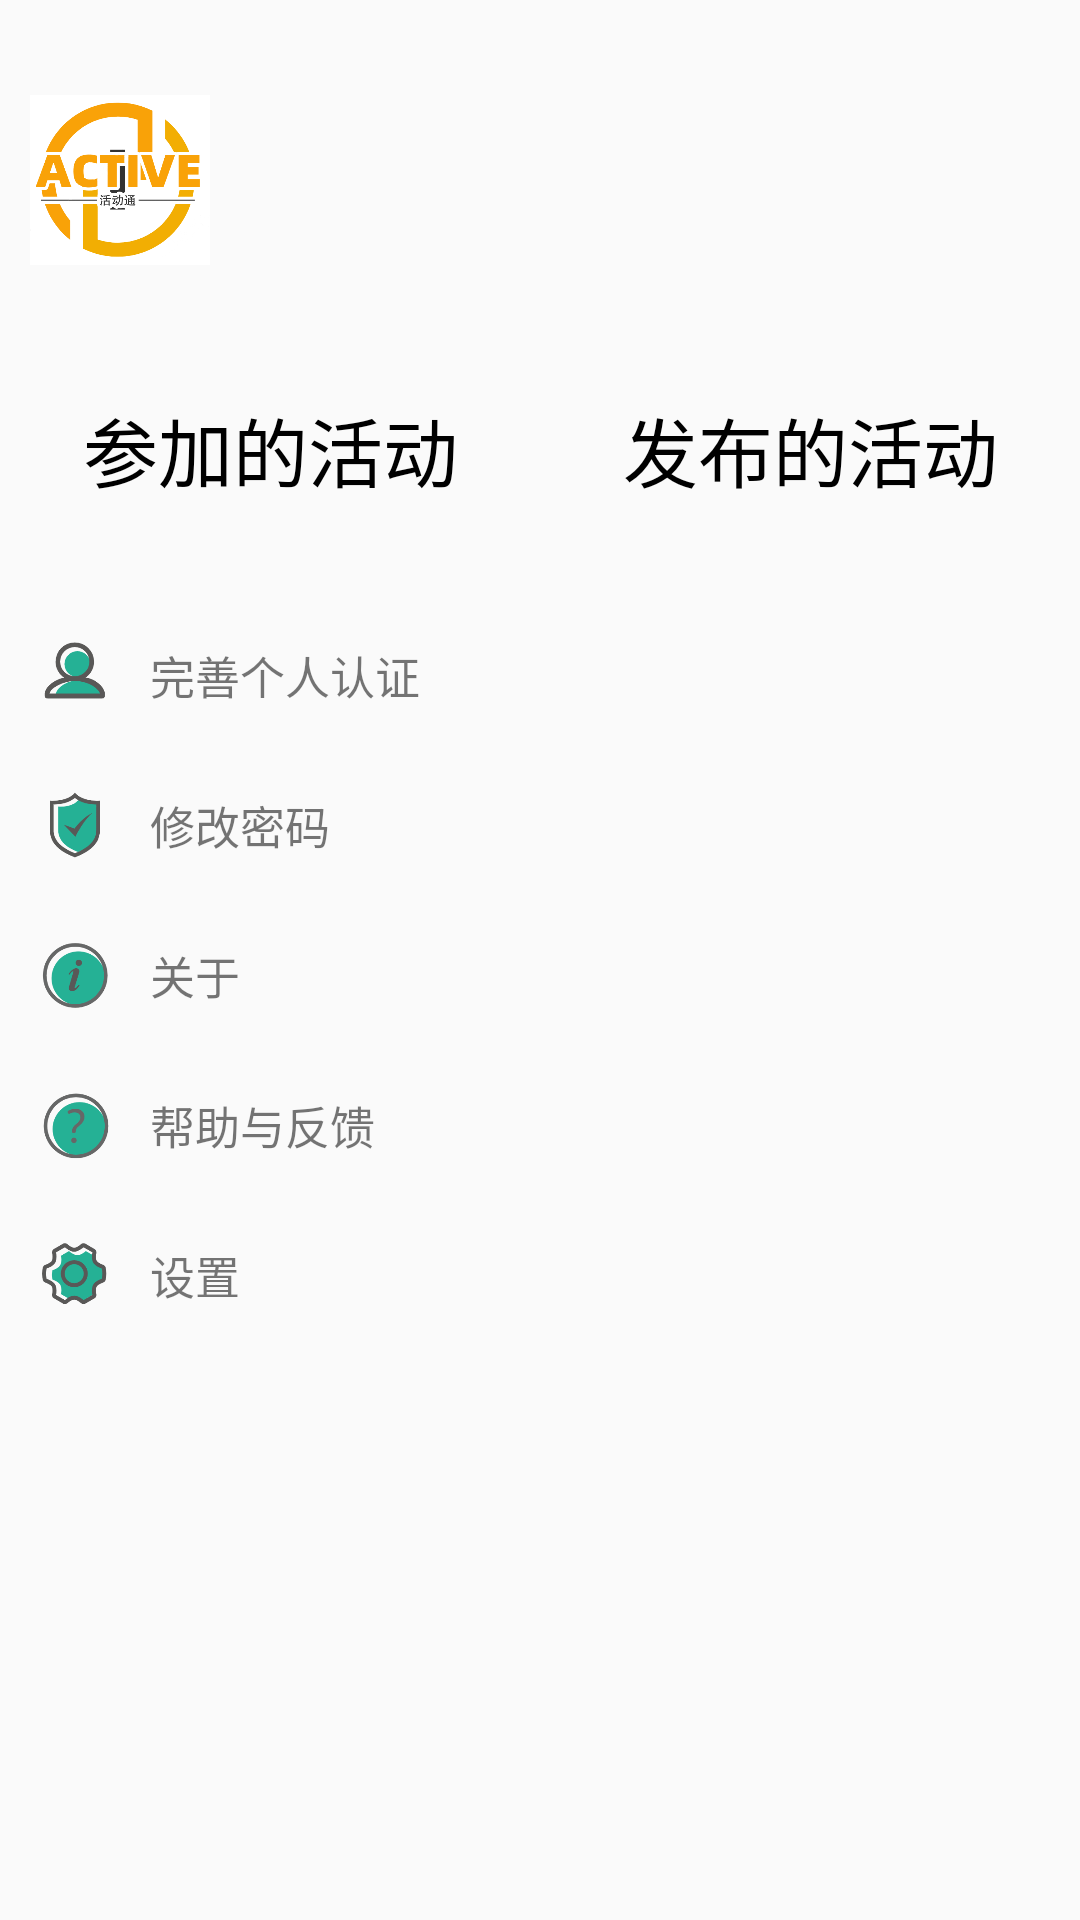

Icon click points for this 1080x1920 phone screenshot, format point (x, y):
about: point (75, 975)
help: point (76, 1125)
password: point (75, 825)
settings: point (74, 1273)
